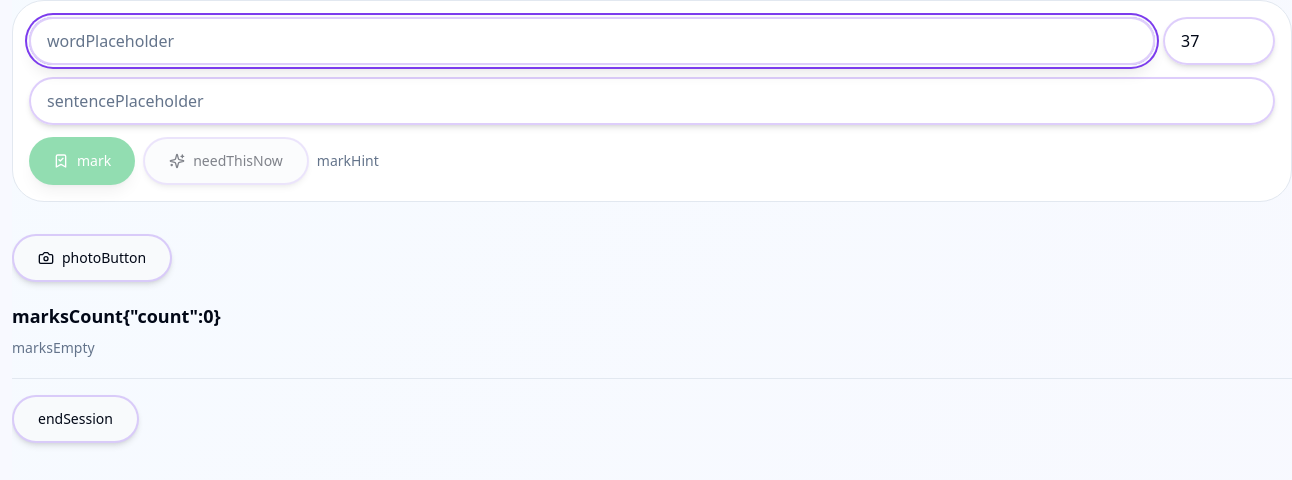
BookSession capture bar › marks with Enter and shows how often a word came back
The width and height of the screenshot is (1292, 480).
In the field named "wordLabel": coordinates (592, 41) top-left (29, 17), bottom-right (1155, 65), type "estremecí"
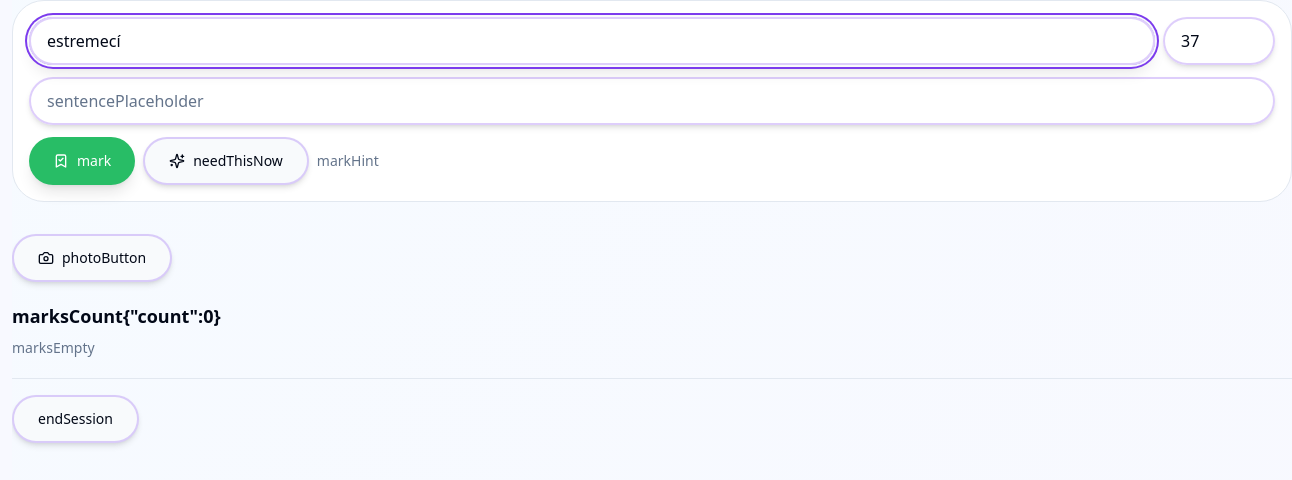
Submit the form with test id "capture-bar", box top-left (12, 0), bottom-right (1291, 202)
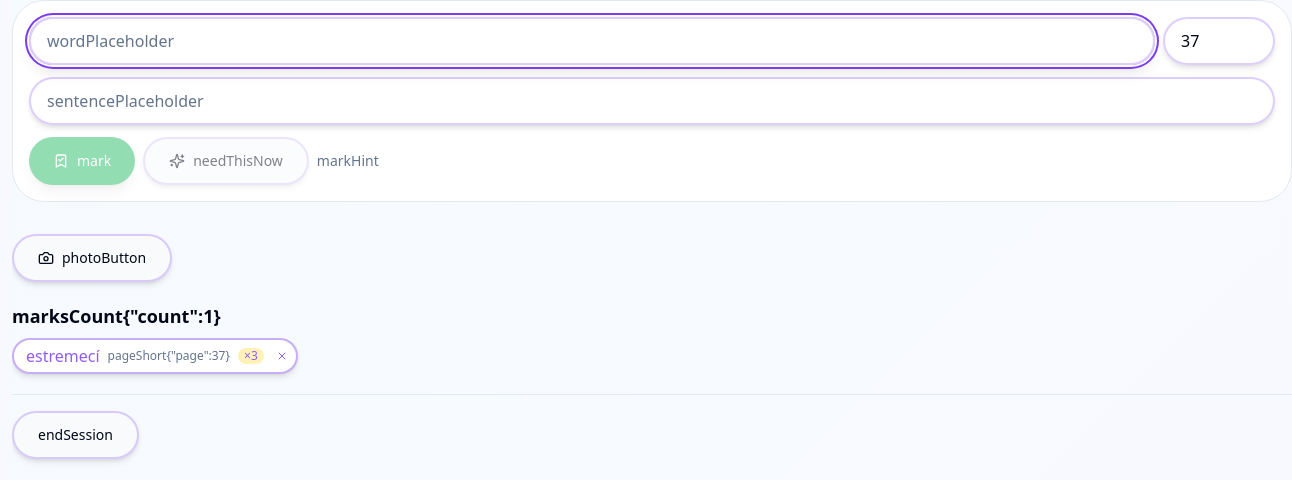
Now the text with test id "mark-times" reads "×3", box top-left (238, 348), bottom-right (264, 364)
